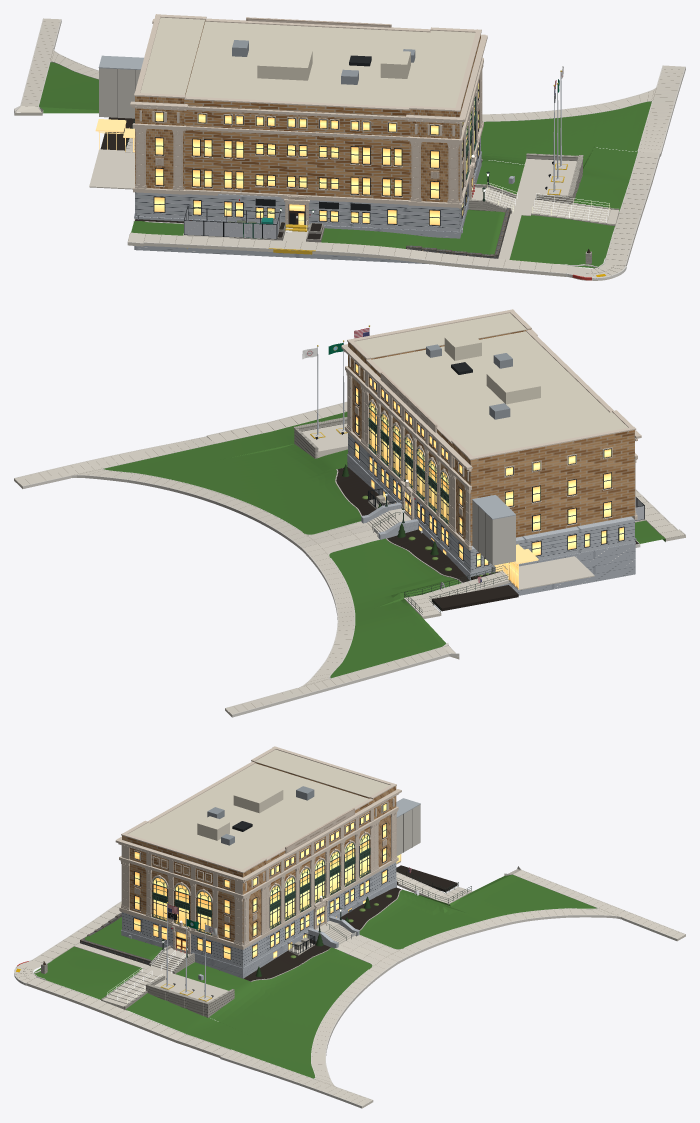
The model's file is courthouse-350.glb.
3 views of the same model, one above another, from view 1: azimuth 30°, elevation 25°; view 2: azimuth 150°, elevation 25°; view 3: azimuth 270°, elevation 25° (orthographic). The views are drawn at different scales.
Visible parts, largest first — view 1: node_10, node_5, node_54, node_64, node_131, node_15, node_9, node_4, node_128, node_13, node_6, node_55 (+25 smaller); view 2: node_131, node_10, node_5, node_128, node_9, node_15, node_4, node_64, node_129, node_13, node_0, node_55 (+13 smaller); view 3: node_131, node_10, node_54, node_128, node_5, node_9, node_15, node_64, node_55, node_4, node_13, node_129 (+17 smaller).
Boxes of the visible parts, box(x1,y1,x2,y2) form: node_10: box(140, 17, 475, 107); node_5: box(135, 20, 480, 202); node_54: box(131, 147, 637, 268); node_64: box(89, 149, 660, 276); node_131: box(39, 62, 651, 168); node_15: box(154, 83, 478, 225); node_9: box(132, 14, 483, 203); node_4: box(135, 137, 480, 231); node_128: box(14, 18, 684, 152); node_13: box(153, 55, 479, 226); node_6: box(133, 58, 483, 207); node_55: box(126, 128, 619, 238); node_131: box(103, 444, 460, 678); node_10: box(355, 313, 628, 456); node_5: box(348, 329, 634, 545); node_128: box(14, 436, 459, 716); node_9: box(345, 309, 637, 546); node_15: box(355, 364, 623, 588); node_4: box(348, 433, 634, 572); node_64: box(206, 402, 685, 590); node_129: box(14, 436, 459, 717); node_13: box(354, 362, 624, 567); node_0: box(347, 455, 635, 595); node_55: box(302, 423, 645, 618); node_131: box(209, 874, 596, 1078); node_10: box(128, 749, 389, 869); node_54: box(34, 917, 251, 1049); node_128: box(221, 869, 685, 1107); node_5: box(122, 761, 396, 943); node_9: box(120, 746, 398, 952); node_15: box(134, 803, 400, 959); node_64: box(26, 861, 400, 1057); node_55: box(102, 872, 472, 1009); node_4: box(122, 862, 396, 967); node_13: box(133, 803, 387, 960); node_129: box(220, 866, 685, 1108).
Size of the model in its own units: 98.03 by 25.69 by 114.
Materials: 104 (17 with a texture image).
